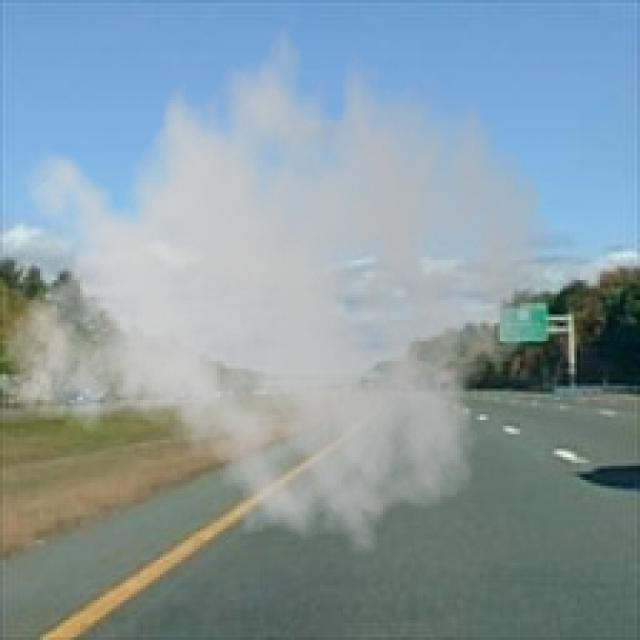smoke: (0, 0, 552, 569)
